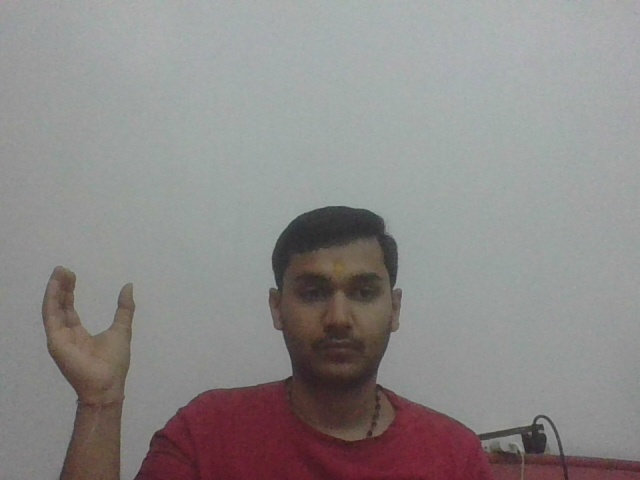U: (41, 262, 143, 392)
